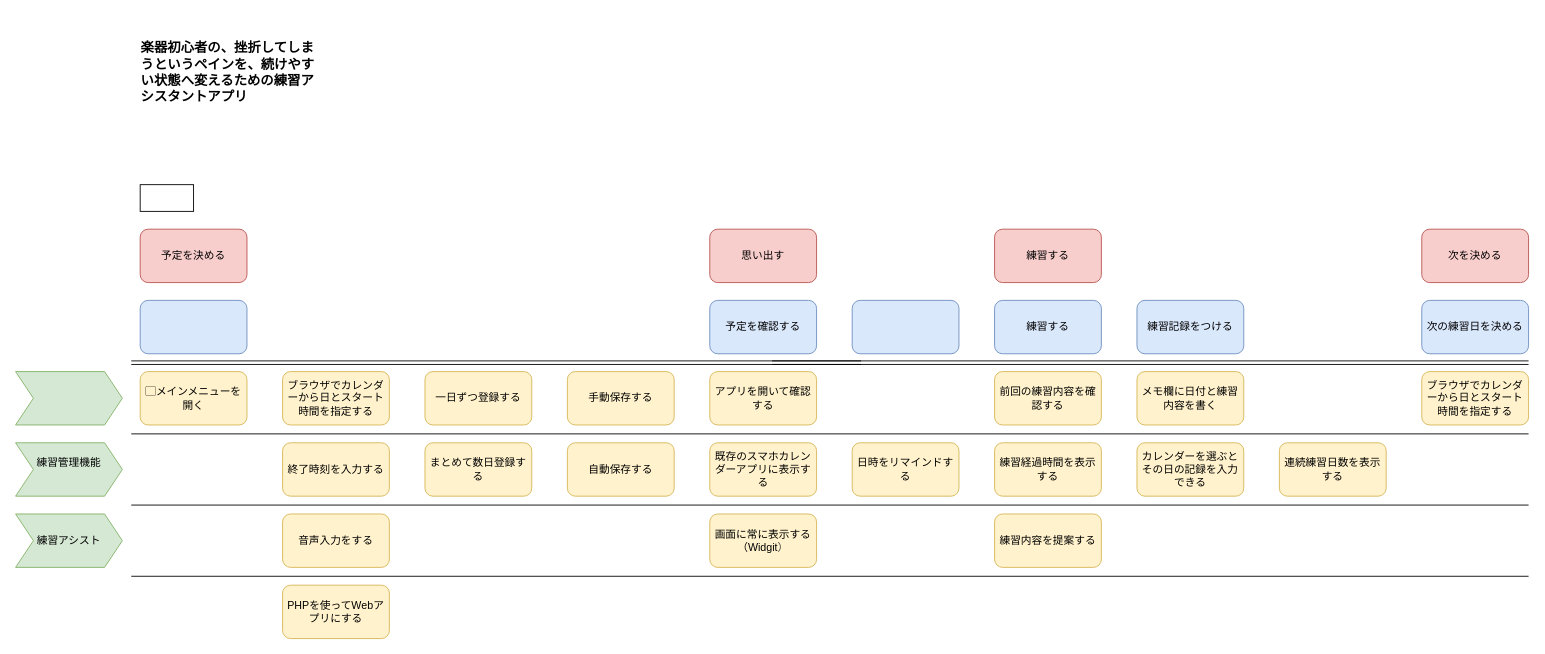
Some shapes in this 1545 by 654 pixel diagram are drawn without their labels. The centre of each missing label's shape, as x and y in pixels:
"ウォーキングスケルトン" goes at (68,398).
"初心者" goes at (166,197).
"練習する日時を決める" goes at (193,326).
"練習日時を思い出す" goes at (905,326).
